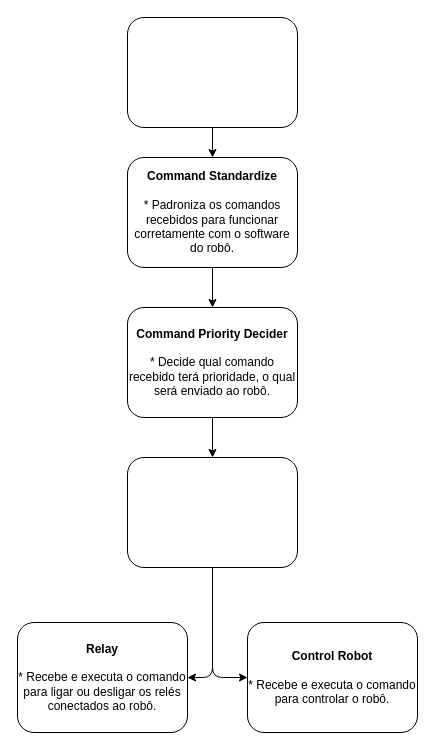
Some shapes in this 435 by 750 pixel diagram are drawn without their labels. Here are the shapes that lost their labels. From the top down, the centre of each, then its label:
point 212,72: Command Emitter * Envia os comandos que controlam o robô.
point 212,512: Command Assembler * Trata os comandos recebidos adequando-os às devidas regras.
